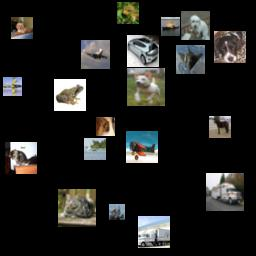airplane: (126, 131, 158, 163), (81, 40, 110, 69), (176, 45, 205, 74), (84, 138, 106, 160), (3, 77, 22, 96)
automobile: (127, 35, 159, 67)
cat: (58, 189, 96, 227), (5, 142, 37, 174)
dog: (127, 68, 165, 106), (214, 31, 246, 63), (181, 11, 210, 40), (11, 17, 33, 39), (96, 117, 115, 136)
frog: (54, 79, 86, 111), (117, 2, 139, 24)
ship: (161, 17, 180, 36), (109, 204, 125, 220)
truck: (206, 173, 244, 211), (138, 216, 170, 248)
